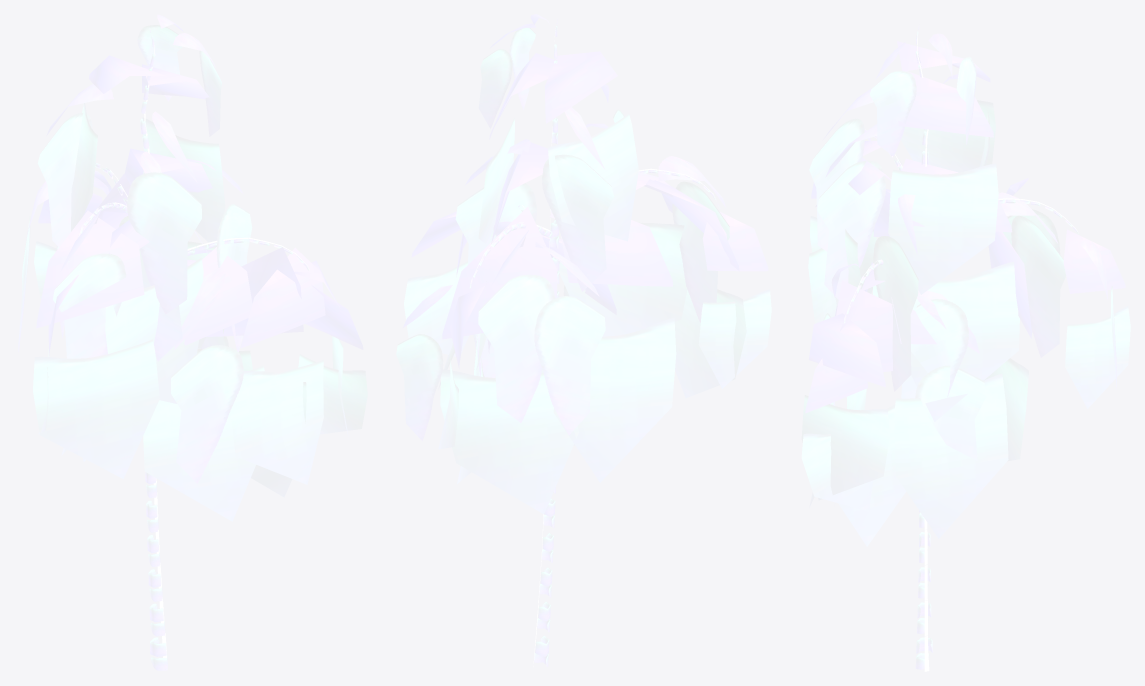
3 renders of one model, left to right at view 1: azimuth 30°, elevation 25°; view 2: azimuth 150°, elevation 25°; view 3: azimuth 270°, elevation 25°, orthographic.
Visible parts, largest first — view 1: SM_FH_WaterLettuce_Clump_01_LOD0; view 2: SM_FH_WaterLettuce_Clump_01_LOD0; view 3: SM_FH_WaterLettuce_Clump_01_LOD0.
Boxes of the visible parts, left/top/right/bottom form: SM_FH_WaterLettuce_Clump_01_LOD0: left=18, top=14, right=367, bottom=670; SM_FH_WaterLettuce_Clump_01_LOD0: left=396, top=14, right=771, bottom=666; SM_FH_WaterLettuce_Clump_01_LOD0: left=801, top=25, right=1130, bottom=671.
Size of the model in its own units: 1.31 by 2.51 by 1.17.
